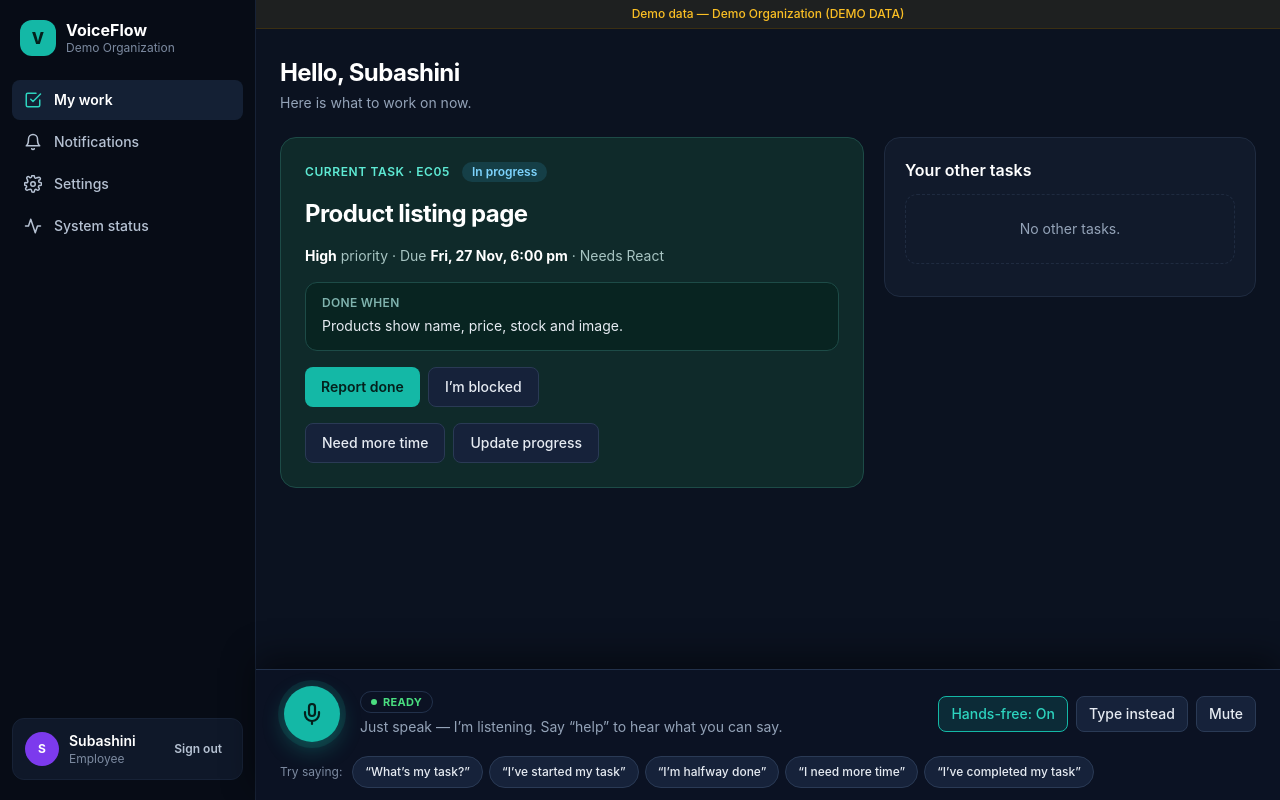
my work (employee) › asks for more time with a date and a reason; shows the pending request afterwards
Click the button "Need more time" at (375, 443), box 305,423 -> 445,463
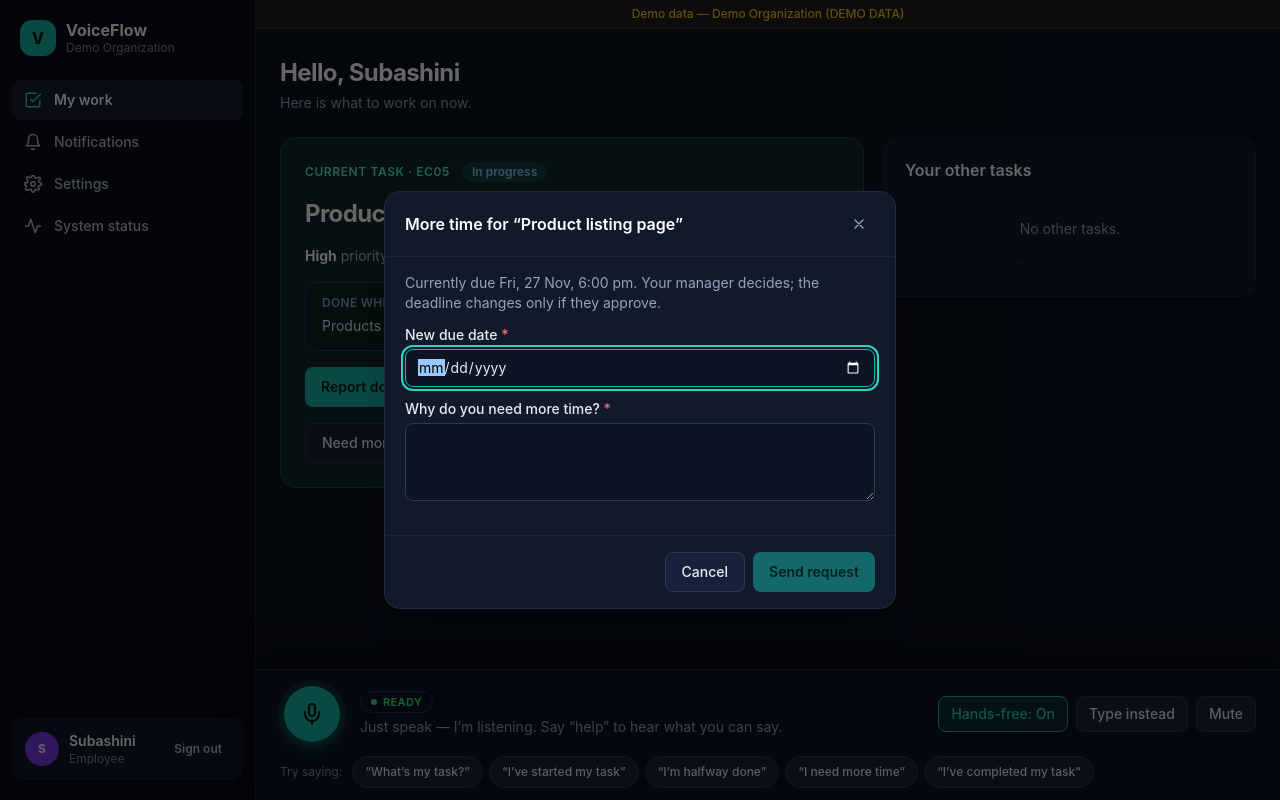
Check: the text "the deadline changes only if they approve" is shown, box 405,274 -> 819,311
Check: the button "Send request" is disabled, box 753,552 -> 875,592
// Date pickers report their value through a change event (typing does not apply in jsdom).
Type "2026-11-30" into the date field labelled "New due date *" at (640, 368), box 405,349 -> 875,387
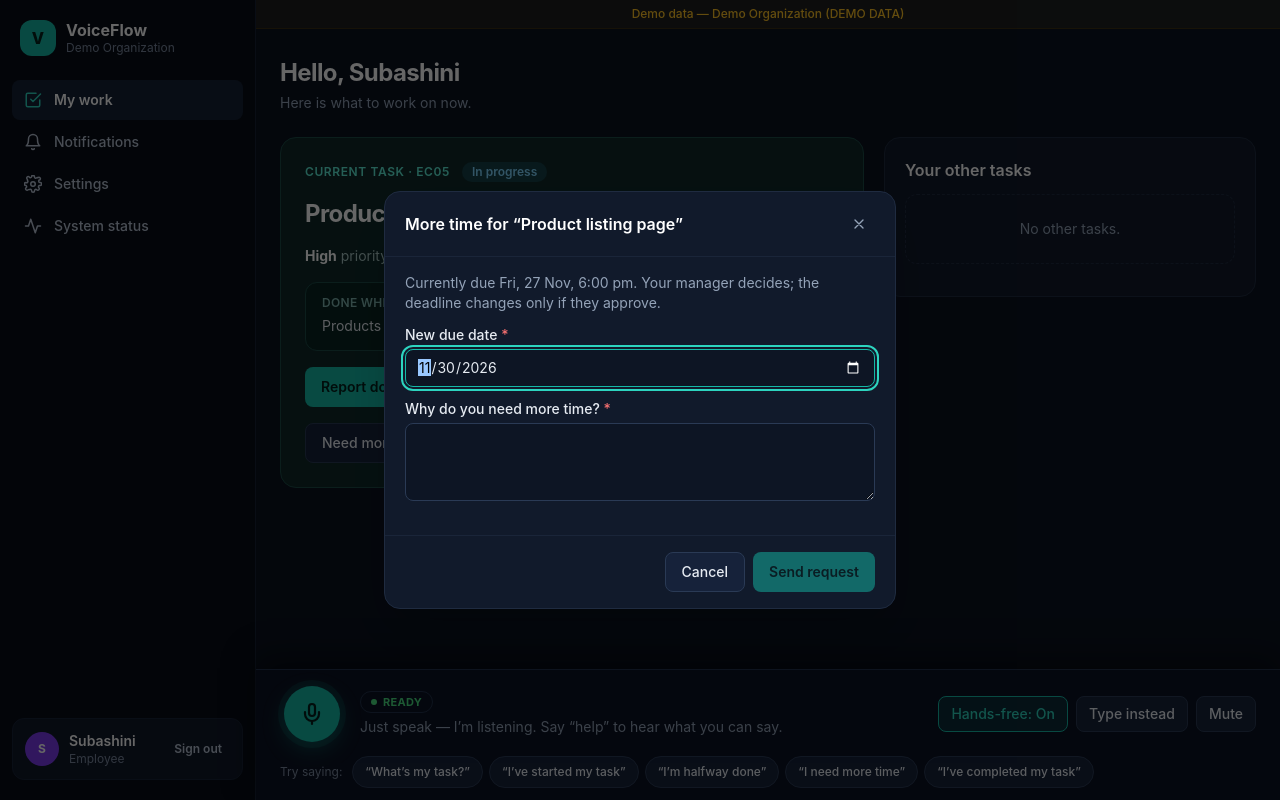
Type "The design changed" into the text box labelled "Why do you need more time? *" at (640, 462), box 405,423 -> 875,501
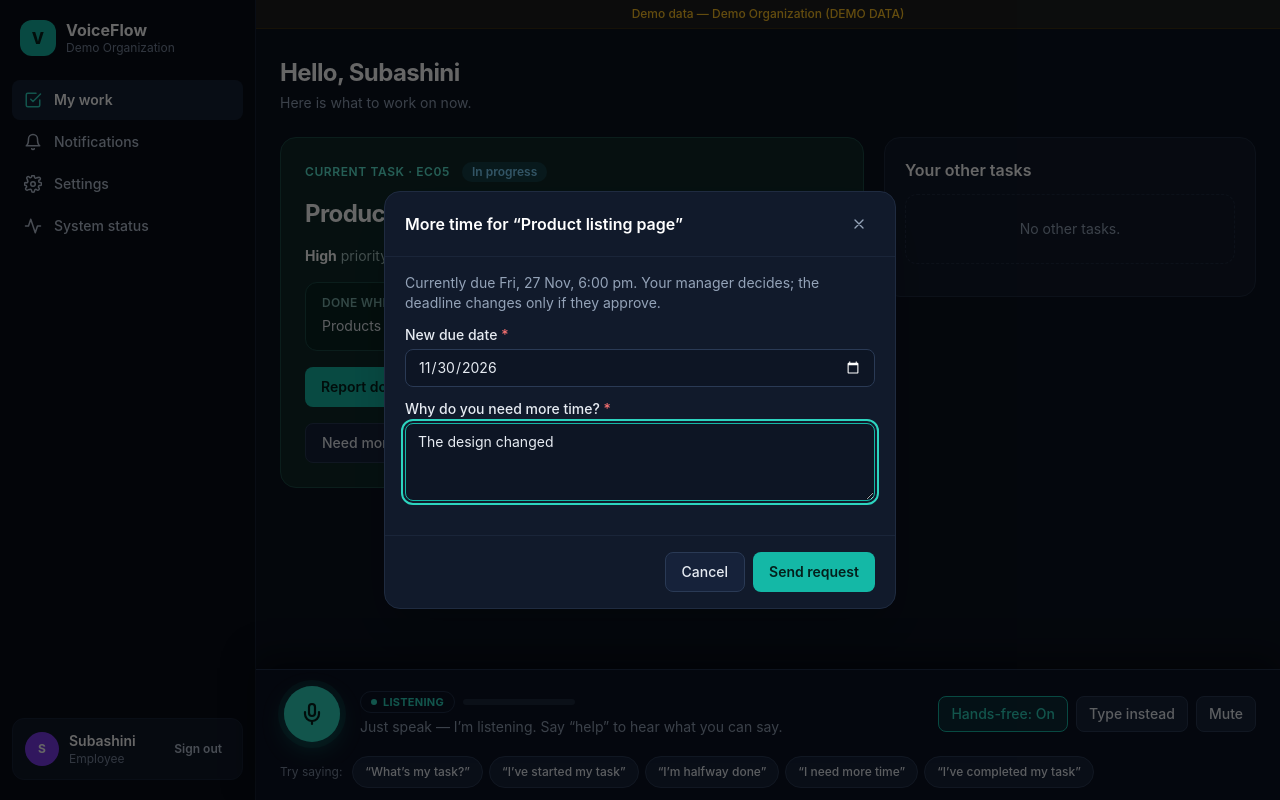
Check: the button "Send request" is enabled
Click the button "Send request" at (814, 572), box 753,552 -> 875,592
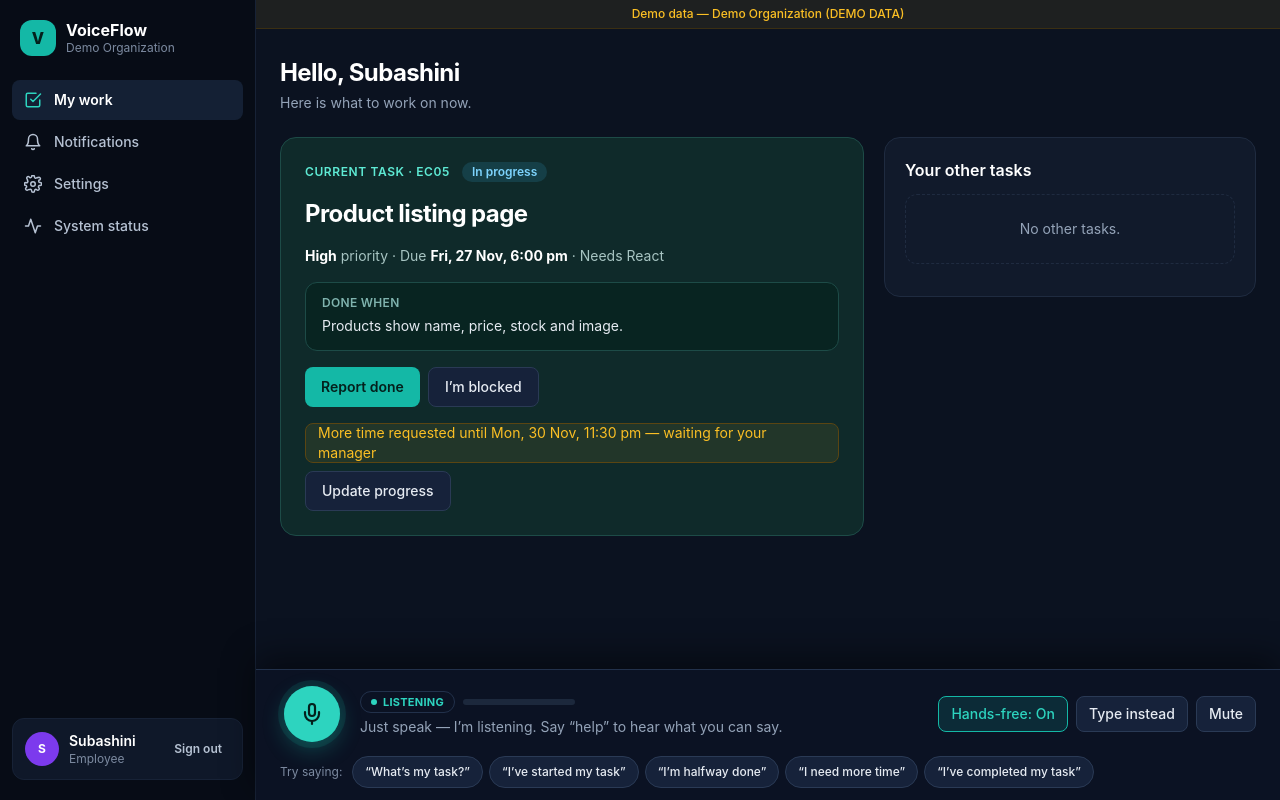
Check: the text "waiting for your manager" is shown, box 318,424 -> 767,461
